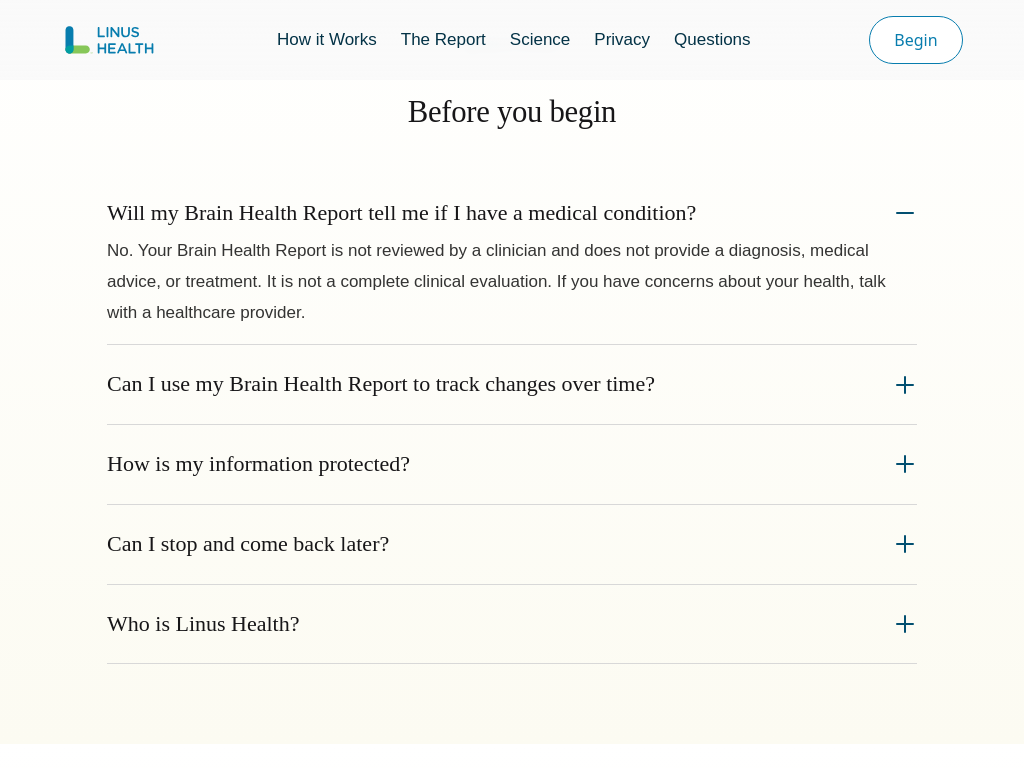
LandingPage › toggles a FAQ answer open and closed
(page scrolled)
Click the button "Can I use my Brain Health Report to track changes over time?": click(512, 385) [107,361,917,408]
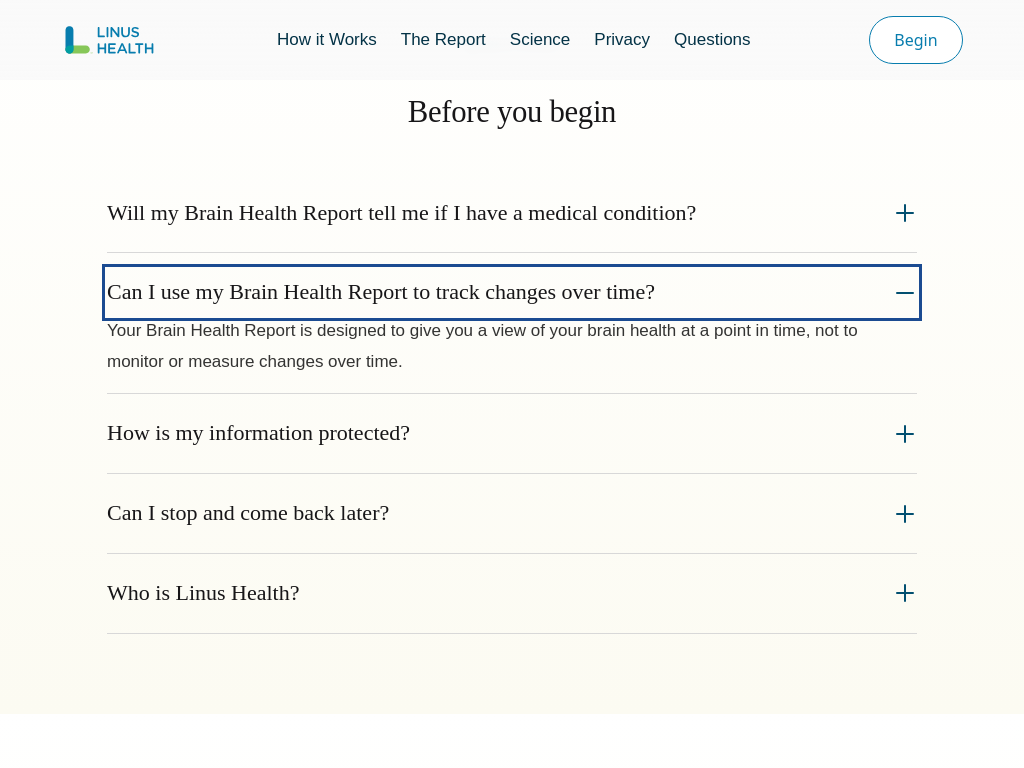
Result: the button "Can I use my Brain Health Report to track changes over time?" is expanded
Result: the text "designed to give you a view of your brain health at a point in time" is shown at [107,321,858,371]
Click the button "Can I use my Brain Health Report to track changes over time?": click(512, 293) [107,270,917,316]
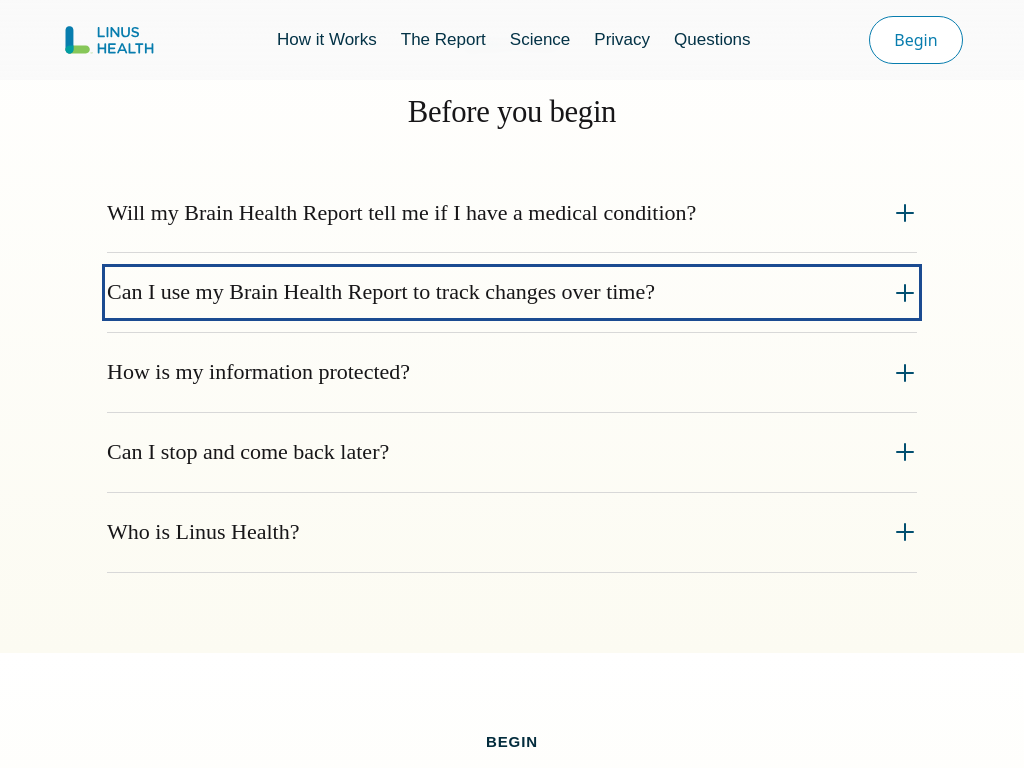
Result: the button "Can I use my Brain Health Report to track changes over time?" is collapsed at [107,270,917,316]
